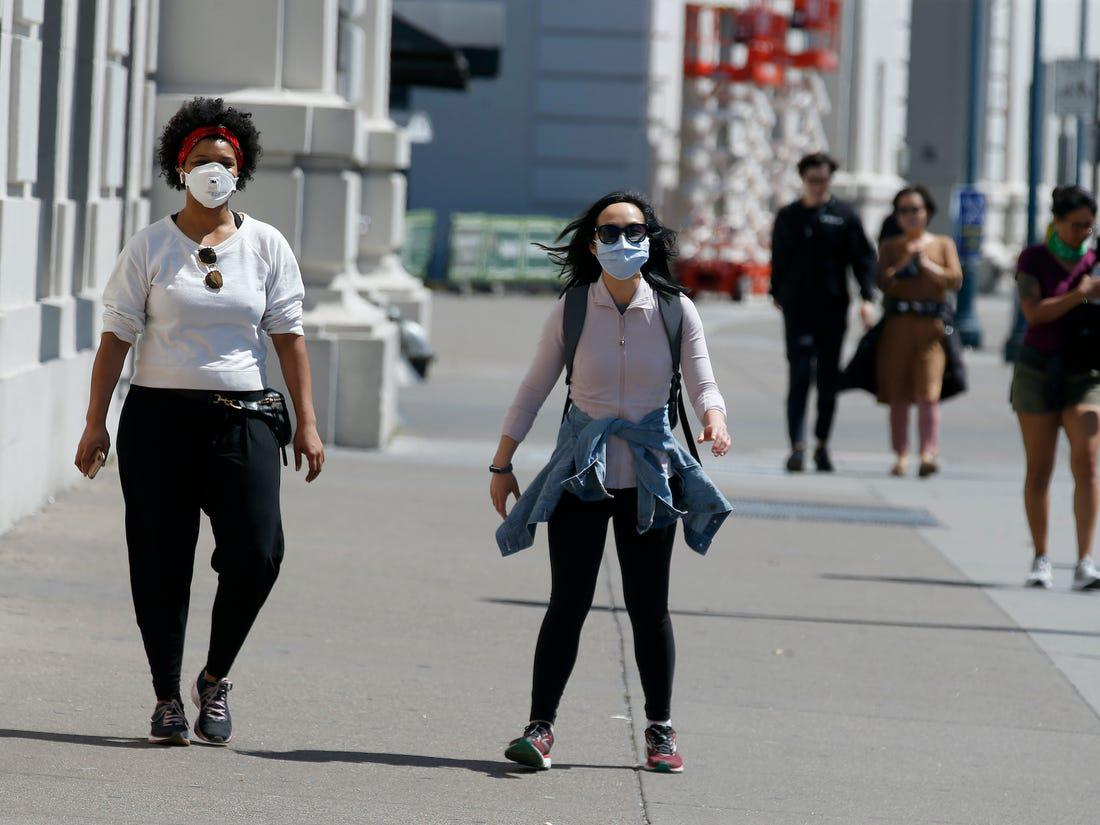Person: (95, 87, 324, 766), (504, 203, 708, 766), (1008, 187, 1100, 558), (779, 153, 858, 453), (874, 187, 954, 474)
